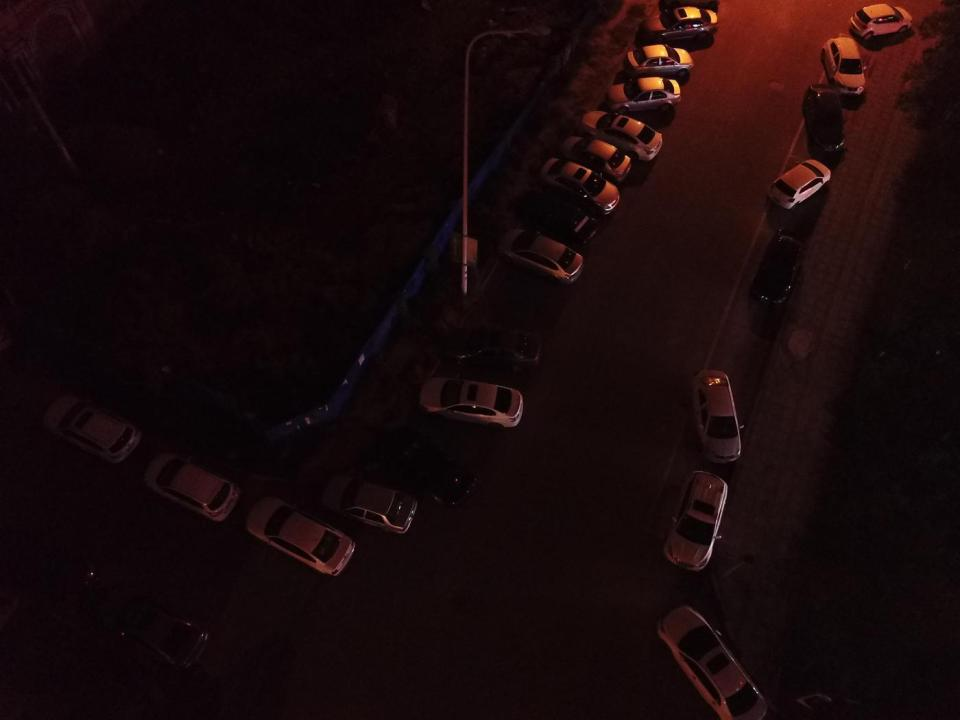car: (654, 600, 769, 720), (87, 583, 219, 673), (245, 493, 355, 573), (41, 391, 144, 465), (3, 524, 96, 605), (658, 468, 728, 574), (139, 453, 242, 524), (390, 430, 478, 507), (316, 471, 419, 535), (496, 224, 588, 288), (689, 366, 746, 465), (535, 148, 622, 212), (416, 377, 523, 427), (577, 105, 664, 162), (442, 325, 544, 370), (749, 229, 806, 306), (522, 187, 599, 240), (563, 132, 633, 180), (768, 158, 832, 208), (604, 72, 682, 112), (805, 84, 846, 154), (821, 35, 868, 96), (640, 5, 718, 40), (846, 3, 916, 39), (622, 42, 690, 78)
